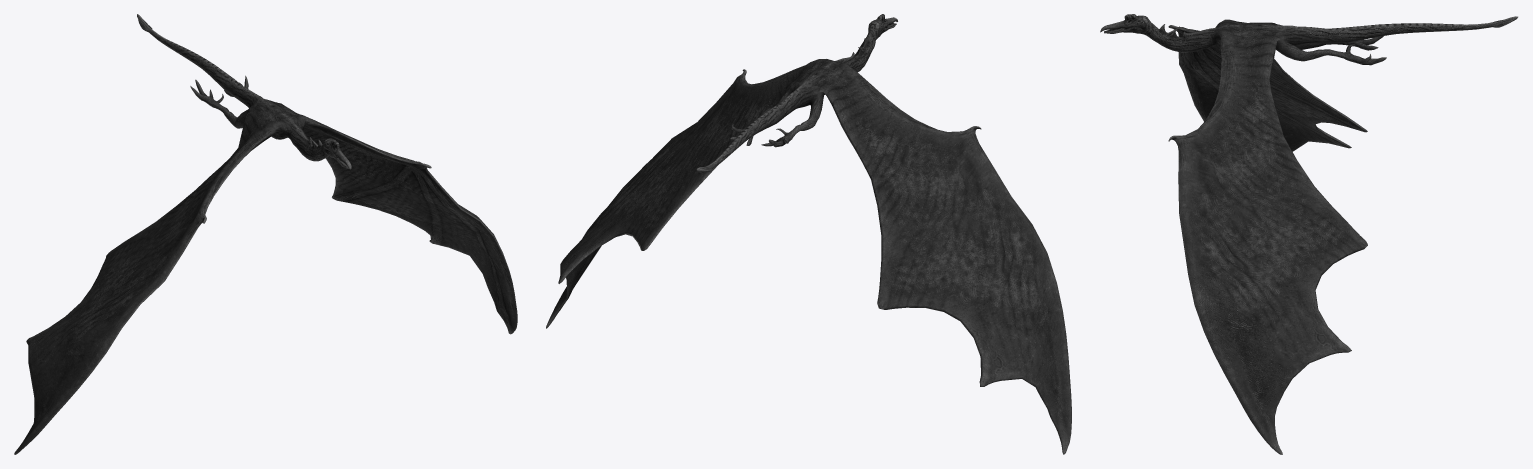
Rendered from Fellbeast_FlyAnim_30.obj.
3 renders of one model, left to right at view 1: azimuth 30°, elevation 25°; view 2: azimuth 150°, elevation 25°; view 3: azimuth 270°, elevation 25°, orthographic. The views are drawn at different scales.
Parts seen in each view (by area): view 1: Fellbeast; view 2: Fellbeast; view 3: Fellbeast.
Boxes of the visible parts, bbox=[...] form: Fellbeast: bbox=[14, 14, 517, 454]; Fellbeast: bbox=[546, 14, 1071, 454]; Fellbeast: bbox=[1100, 14, 1517, 454].
Size of the model in its own units: 6.22 by 3.67 by 4.4.
